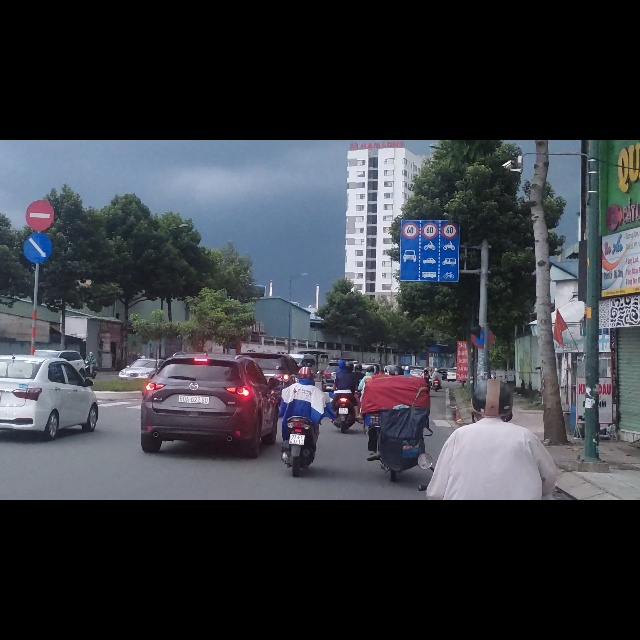bien_chi_dan: (399, 177, 459, 251), (22, 163, 54, 222), (26, 108, 54, 161), (422, 145, 439, 175), (442, 145, 459, 175), (402, 146, 419, 175)
